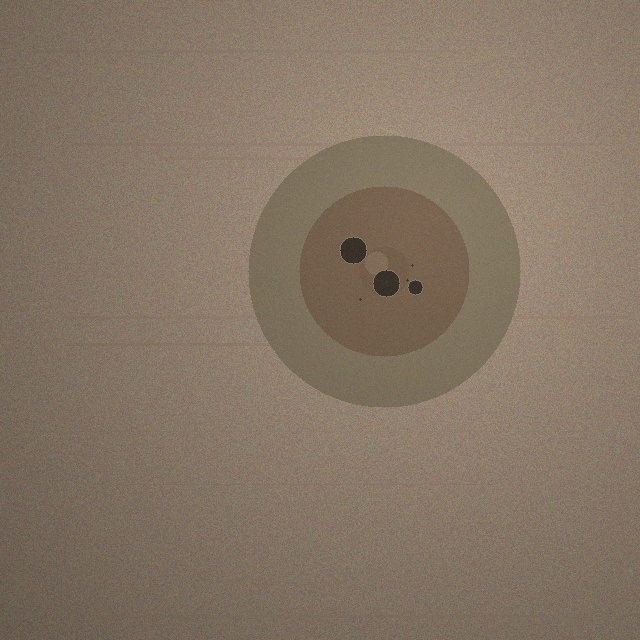shrinkage: (248, 135, 520, 407)
